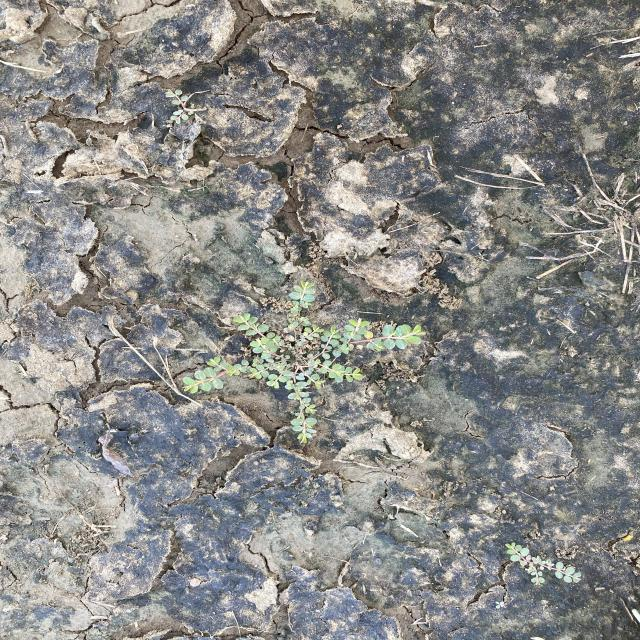SpottedSpurge: (180, 279, 428, 446)
